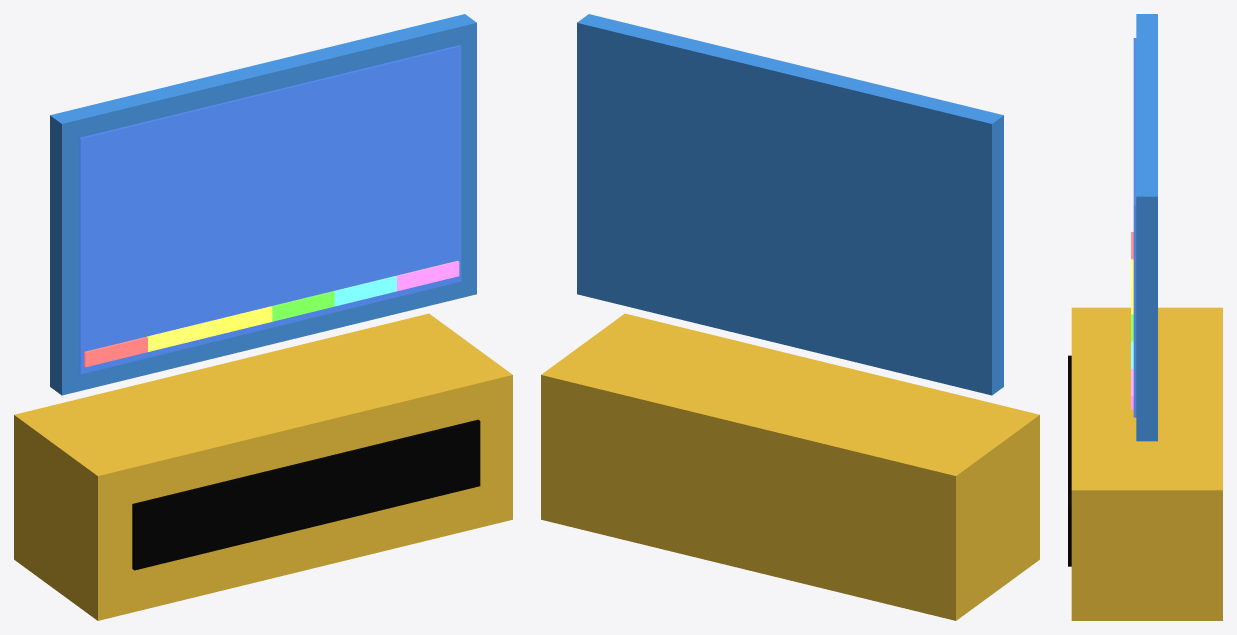
The model's file is tv_fun_1.glb.
3 views of the same model, side by side, from view 1: azimuth 30°, elevation 25°; view 2: azimuth 150°, elevation 25°; view 3: azimuth 270°, elevation 25° (orthographic). The views are drawn at different scales.
Size of the model in its own units: 1.2 by 1.3 by 0.43.
